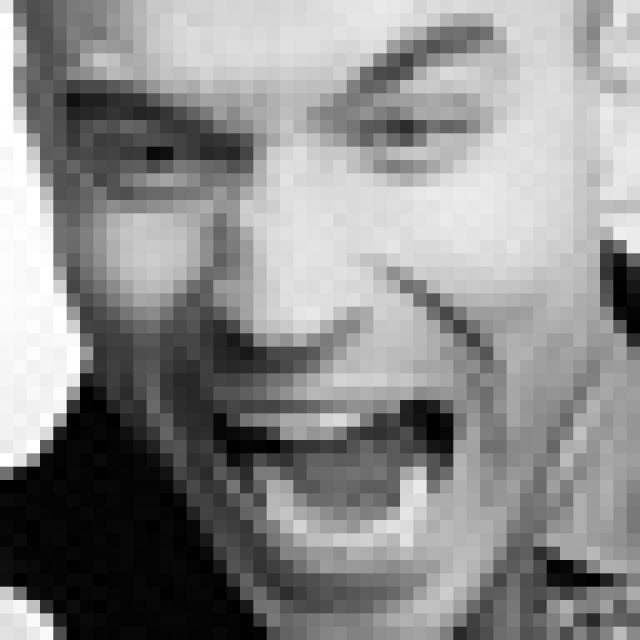angry: (58, 21, 507, 584)
